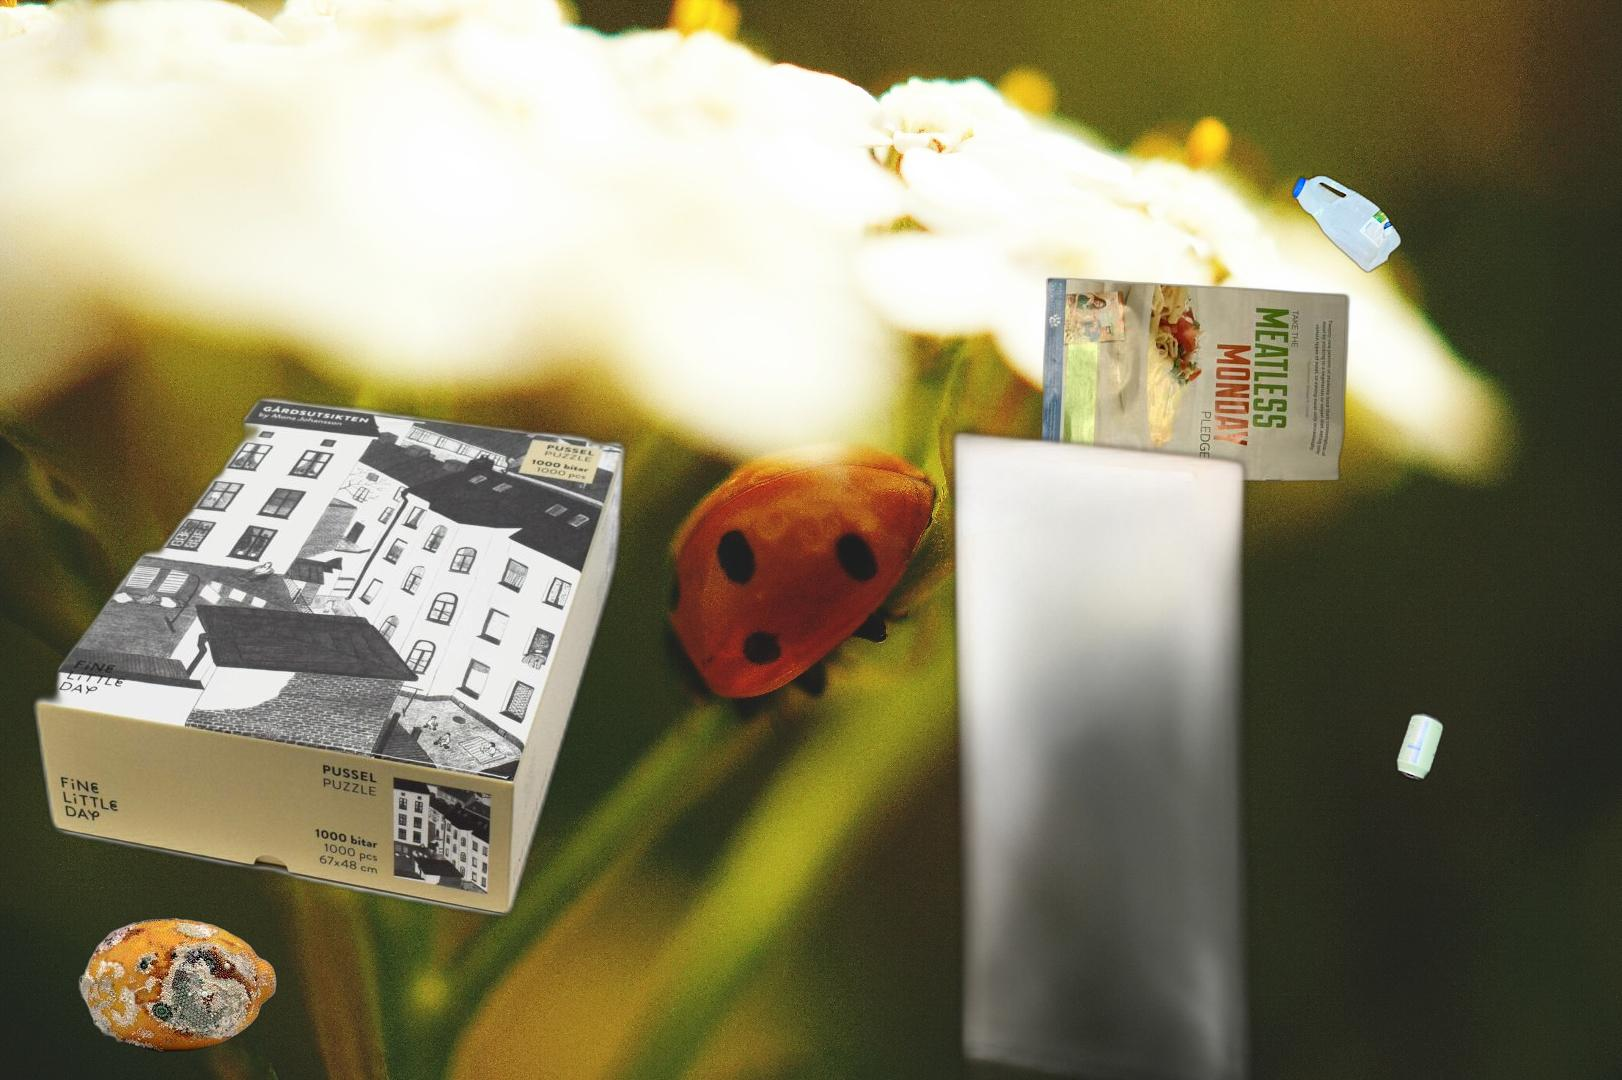biological: (75, 915, 280, 1055)
metal-cans: (1393, 708, 1448, 787)
paper: (1035, 275, 1353, 485)
plastic-bottles: (1287, 169, 1406, 278)
trashbox-cardboard: (944, 419, 1611, 1080), (24, 385, 635, 928)
